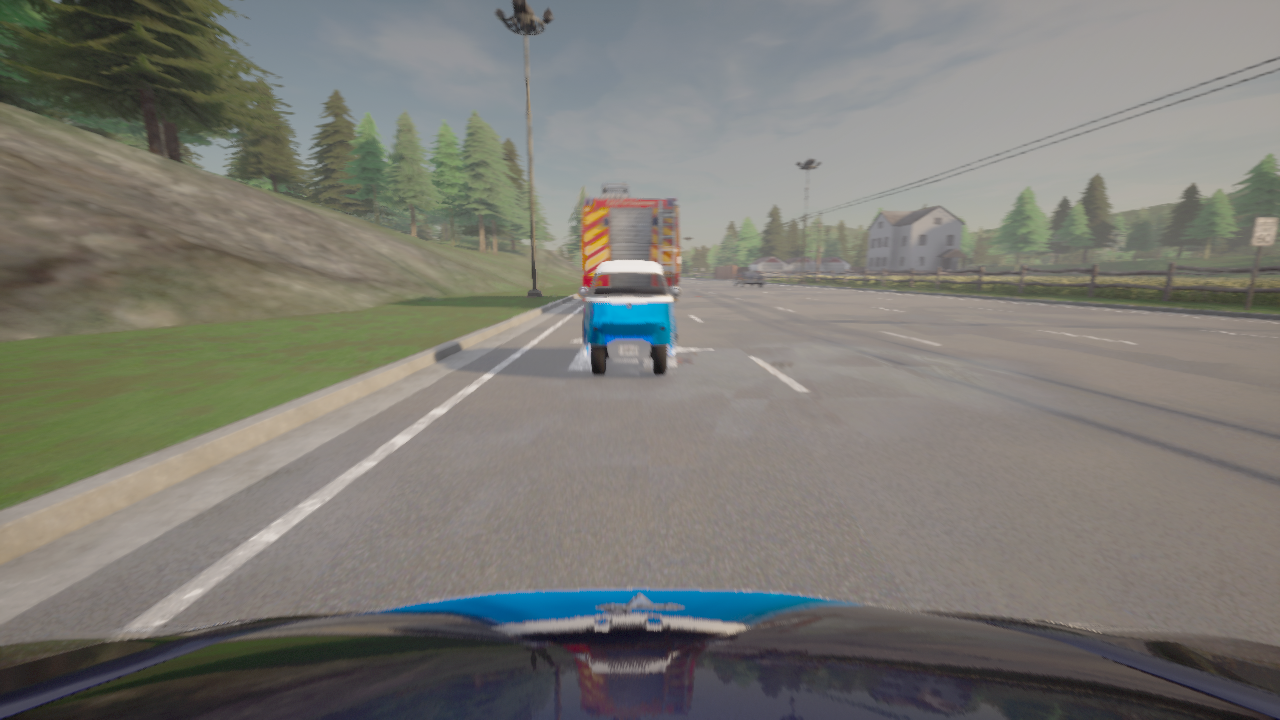cyclist: (0, 588, 1279, 719), (579, 261, 680, 375), (583, 182, 679, 300), (733, 271, 764, 287)
